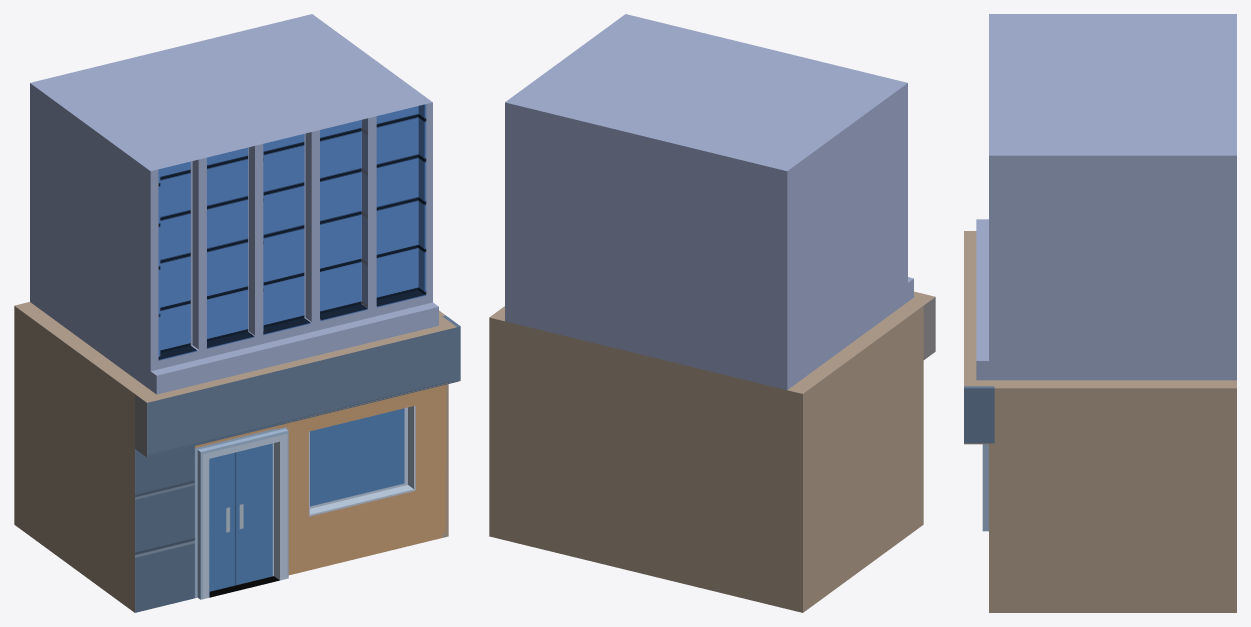
Rendered from Building.fbx.
The picture shows the model from 3 angles, left to right: view 1: azimuth 30°, elevation 25°; view 2: azimuth 150°, elevation 25°; view 3: azimuth 270°, elevation 25°; orthographic projection. The views are drawn at different scales.
Visible parts, largest first — view 1: Cube.001, Cube; view 2: Cube.001, Cube; view 3: Cube.001, Cube.
Part boxes in pixels (x1,y1,x2,y2): Cube.001: (30,14,438,394); Cube: (14,302,460,612); Cube.001: (505,14,913,389); Cube: (489,291,935,612); Cube.001: (976,14,1236,380); Cube: (964,231,1236,612).
Size of the model in its own units: 600 by 800 by 440.
Materials: 2 (2 with a texture image).
